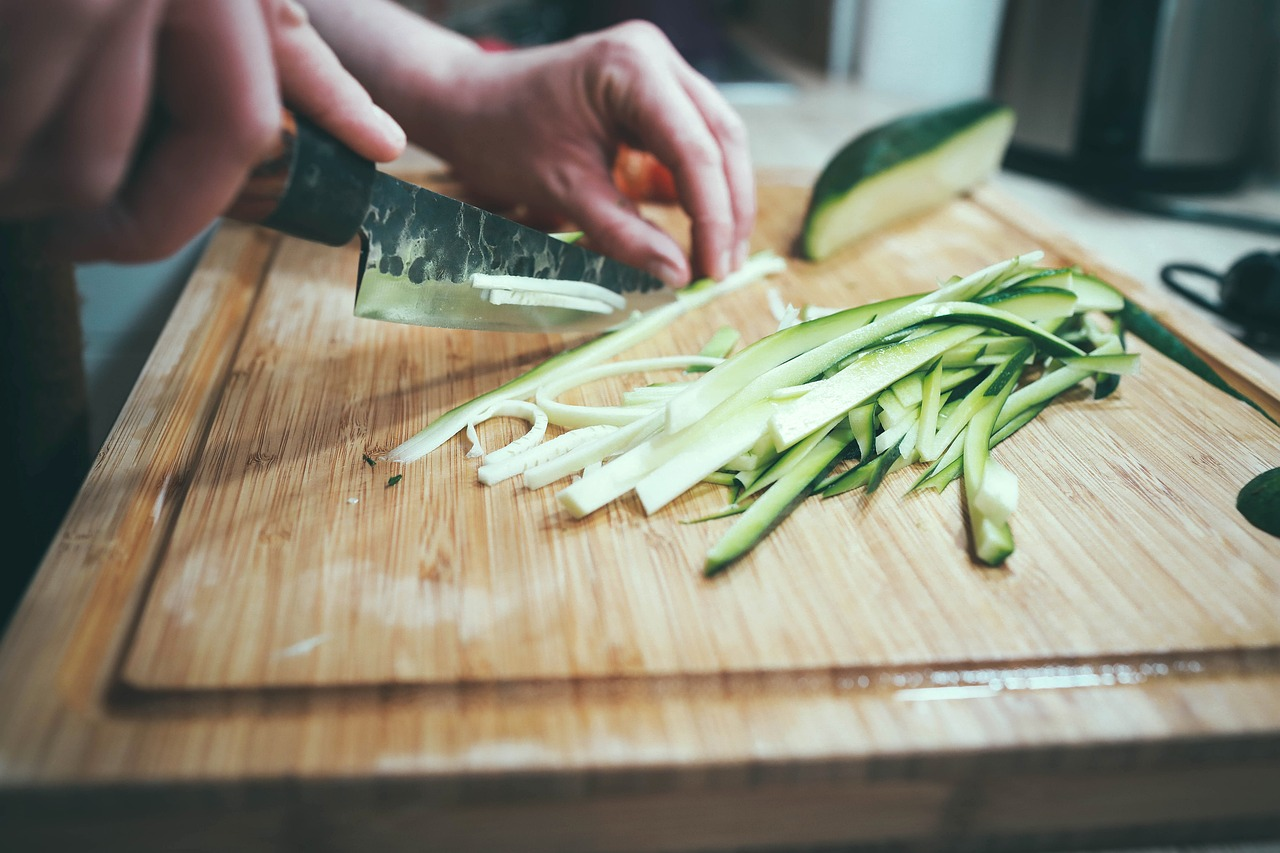knife: (223, 101, 678, 334)
